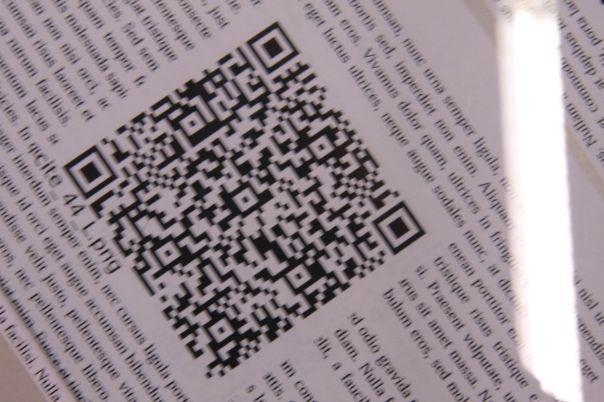Finder pattern: (371, 201, 431, 256), (64, 146, 116, 201), (246, 21, 300, 71)
